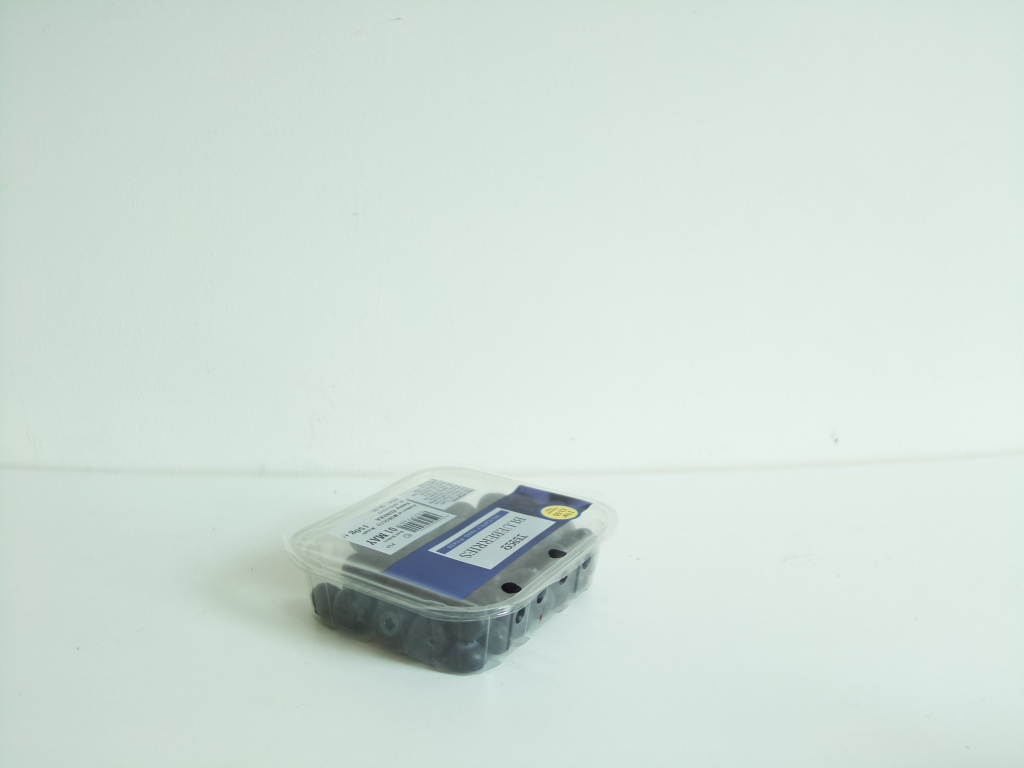soft-fruit: (287, 468, 617, 680)
